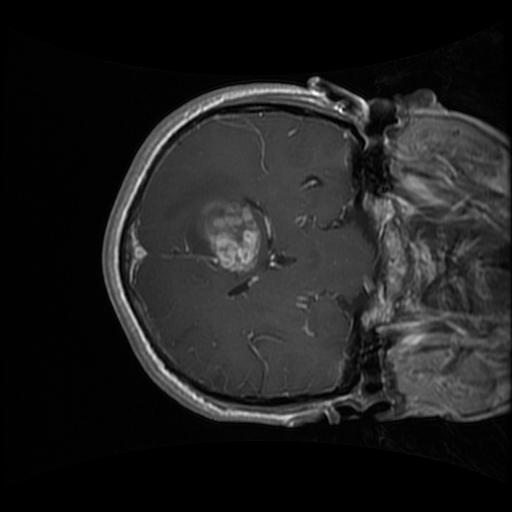glioma: (186, 189, 296, 276)
